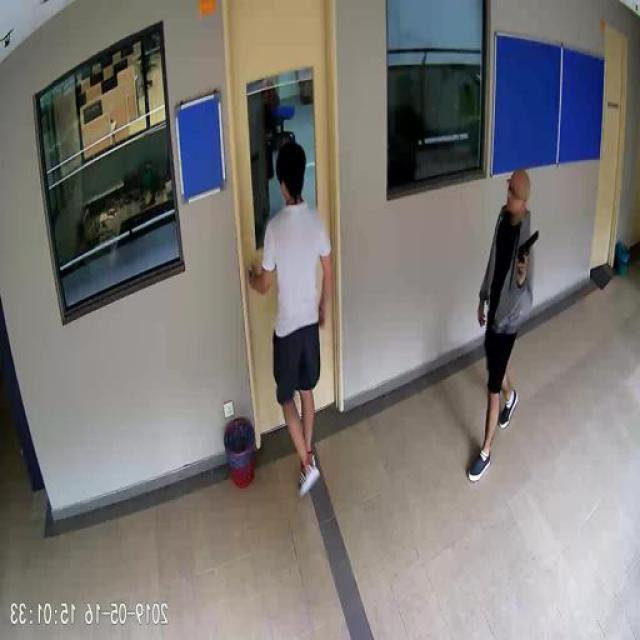weapon: (513, 229, 542, 277)
